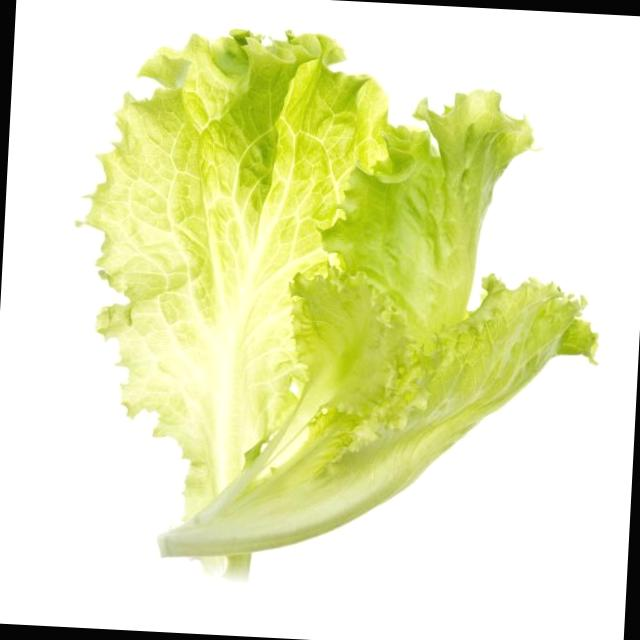Lettuce-Ready-to-Harvest: (87, 31, 596, 565)
